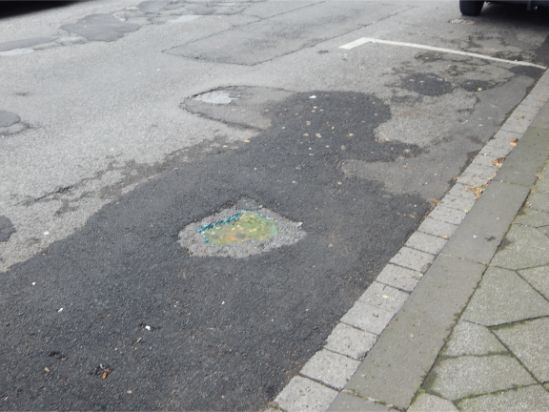pothole: (174, 193, 316, 257)
